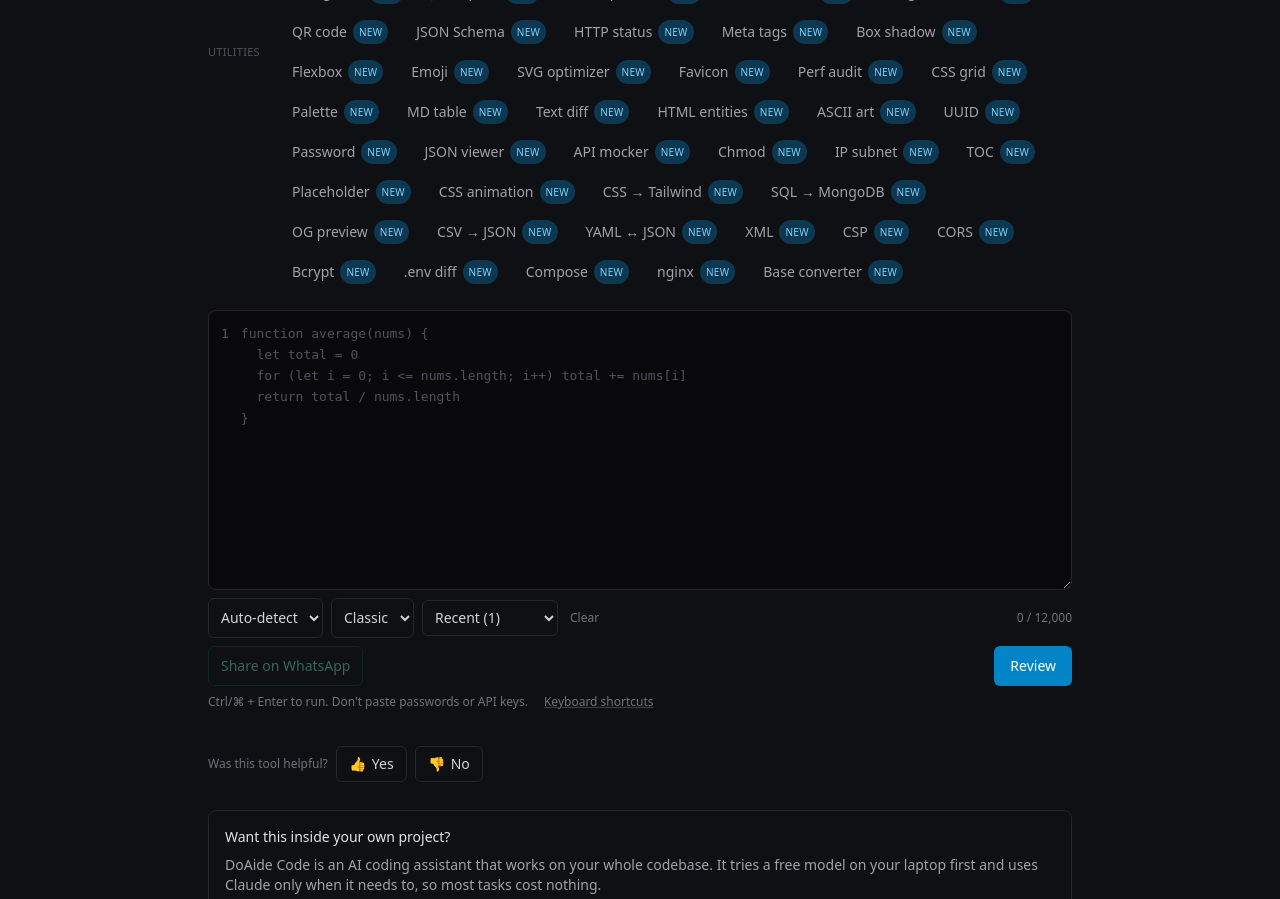
Test case: CodeToolsPage › shows the server error
(page scrolled)
Replace the text in the text box with test id "tool-code" with "x" at (654, 450), box left=237, top=311, right=1071, bottom=588
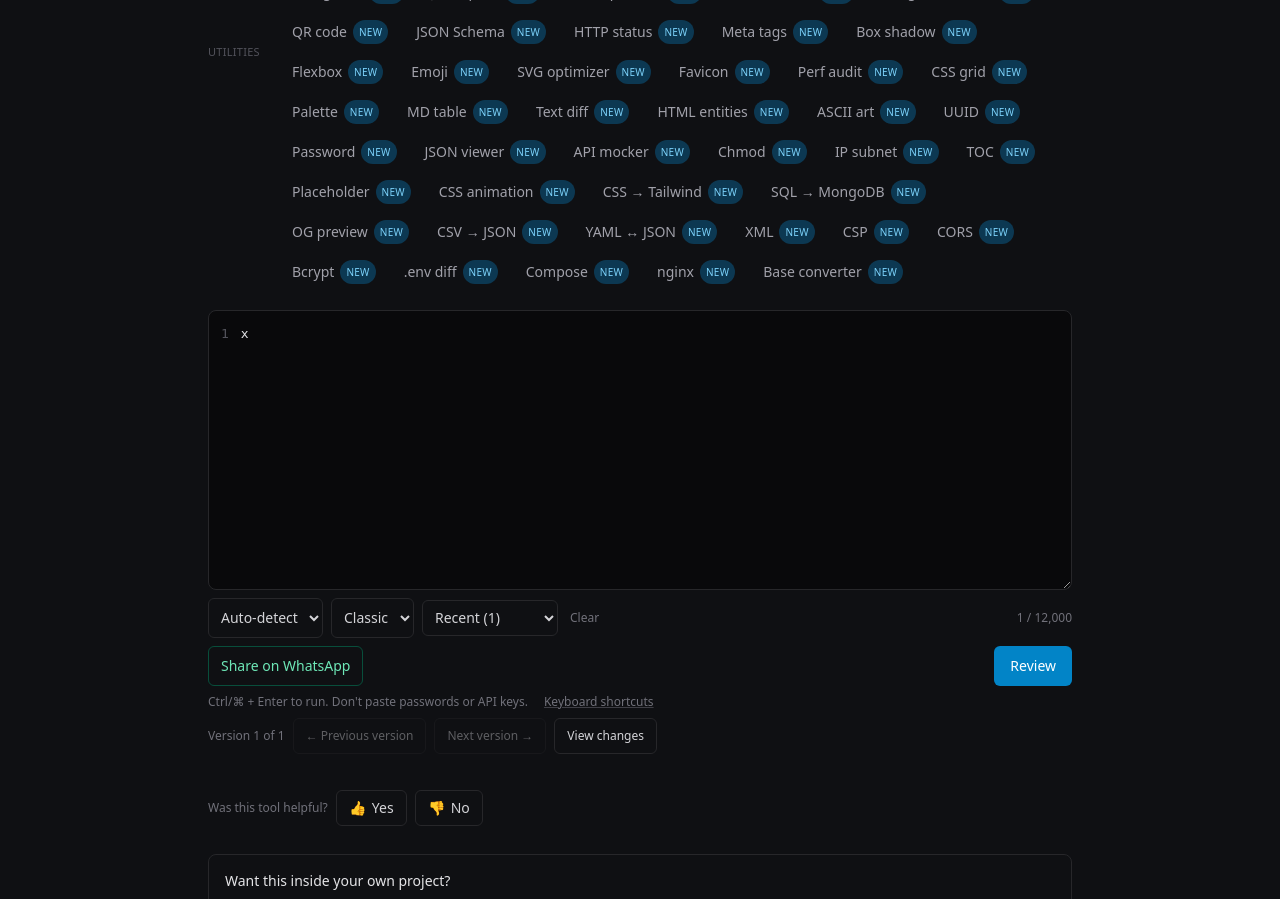
Click the button with test id "tool-run".
click(1033, 666)  # box left=994, top=646, right=1072, bottom=686
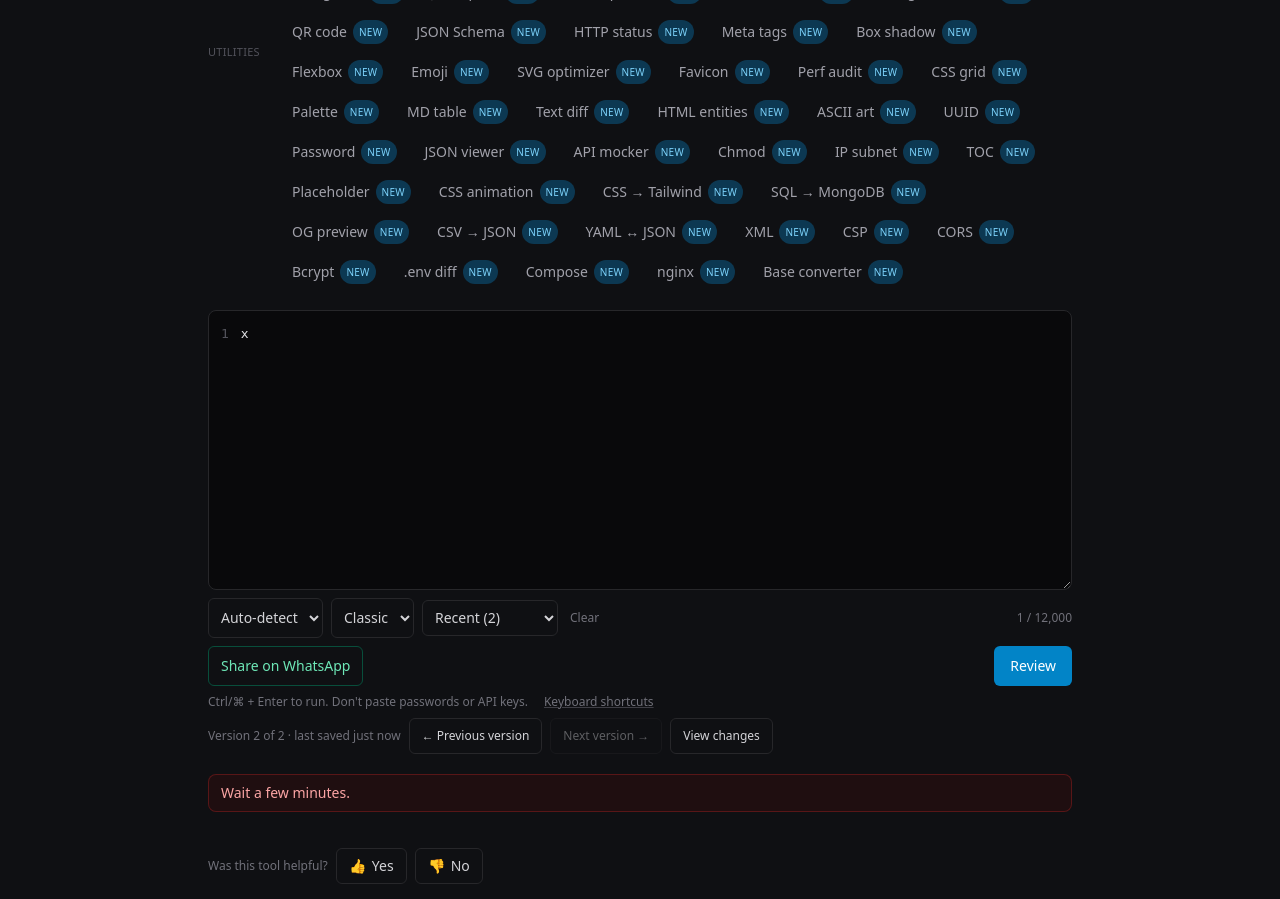
Result: the message with test id "tool-error" reads "Wait a few minutes." at left=221, top=782, right=350, bottom=802
